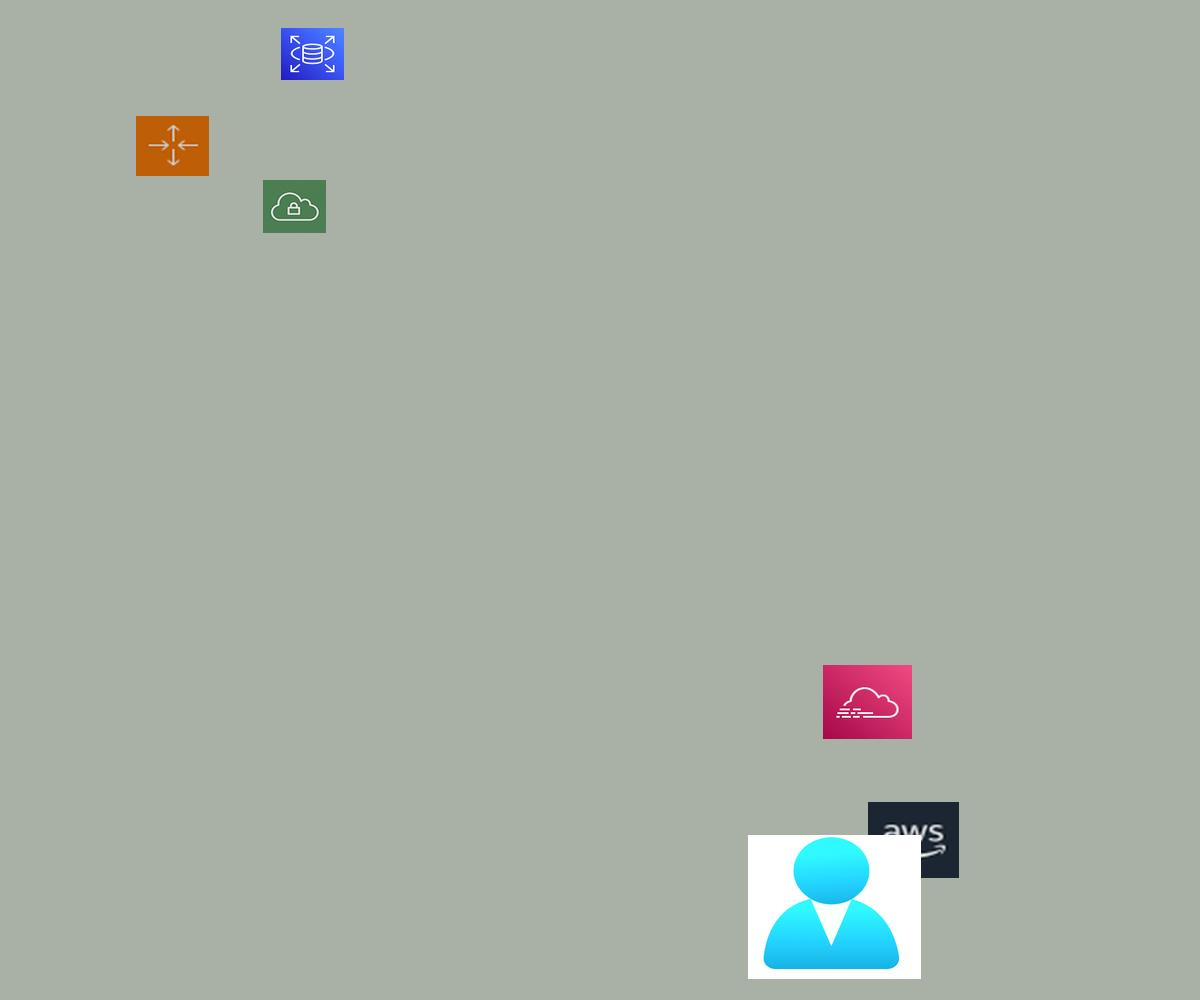AWS-Cloud-logo: (868, 802, 959, 878)
AWS-CloudTrail: (823, 665, 912, 739)
AWS-Private_vpc: (263, 180, 326, 233)
AWS-RDS: (281, 28, 344, 80)
AWS-Scaling-group: (136, 116, 209, 176)
Azure_users: (748, 835, 921, 979)
